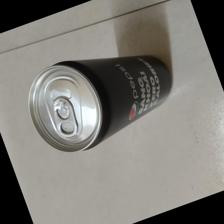Pepsi: (25, 52, 173, 154)
